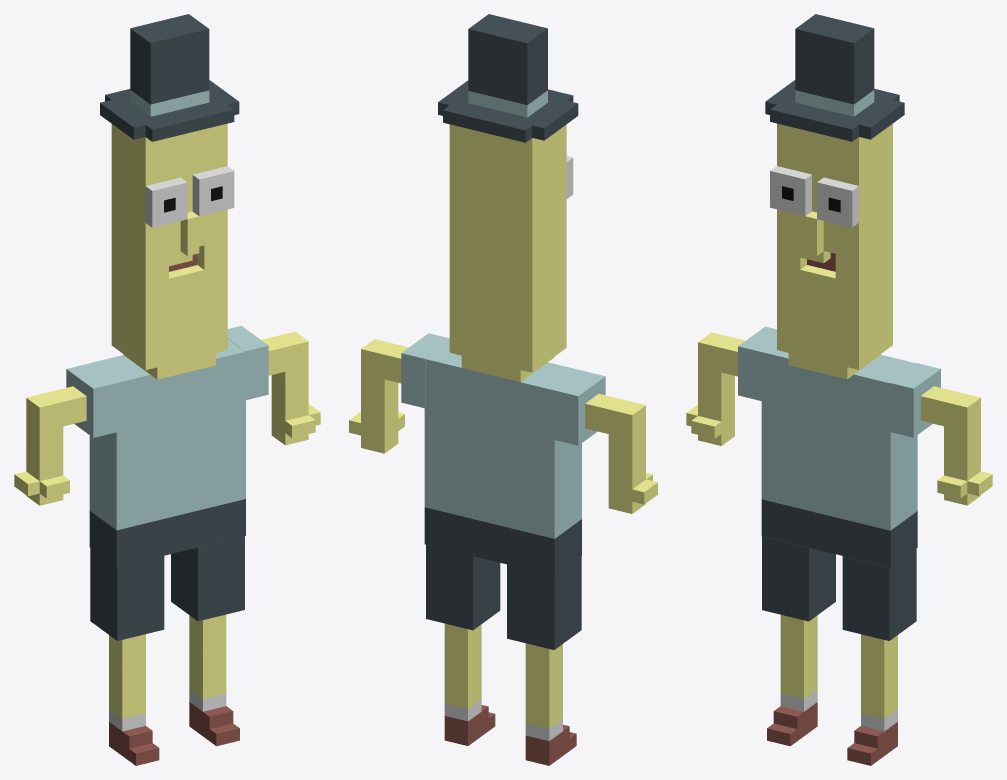
File: MrPoopyButthole 1.fbx
3 renders of one model, left to right at view 1: azimuth 30°, elevation 25°; view 2: azimuth 150°, elevation 25°; view 3: azimuth 330°, elevation 25°, orthographic.
Visible parts, largest first — view 1: Head, Torso, Right Leg, Left Leg, Right Arm, Left Arm; view 2: Head, Torso, Right Leg, Left Leg, Right Arm, Left Arm; view 3: Head, Torso, Left Leg, Right Leg, Left Arm, Right Arm.
Part boxes in pixels (x1,y1,x2,y2): Head: (100, 14, 239, 379); Torso: (89, 339, 245, 566); Right Leg: (90, 548, 164, 765); Left Leg: (171, 536, 244, 746); Right Arm: (14, 363, 116, 505); Left Arm: (227, 326, 320, 445); Head: (438, 14, 578, 382); Torso: (424, 341, 581, 575); Right Leg: (507, 556, 581, 765); Left Leg: (426, 544, 500, 745); Right Arm: (554, 370, 657, 513); Left Arm: (349, 333, 449, 453); Head: (765, 14, 904, 379); Torso: (761, 341, 917, 567); Left Leg: (842, 549, 916, 765); Right Leg: (762, 536, 835, 746); Left Arm: (890, 363, 992, 505); Right Arm: (686, 326, 776, 445).
Bounding box in the file's own units: 250 × 580 × 70.
